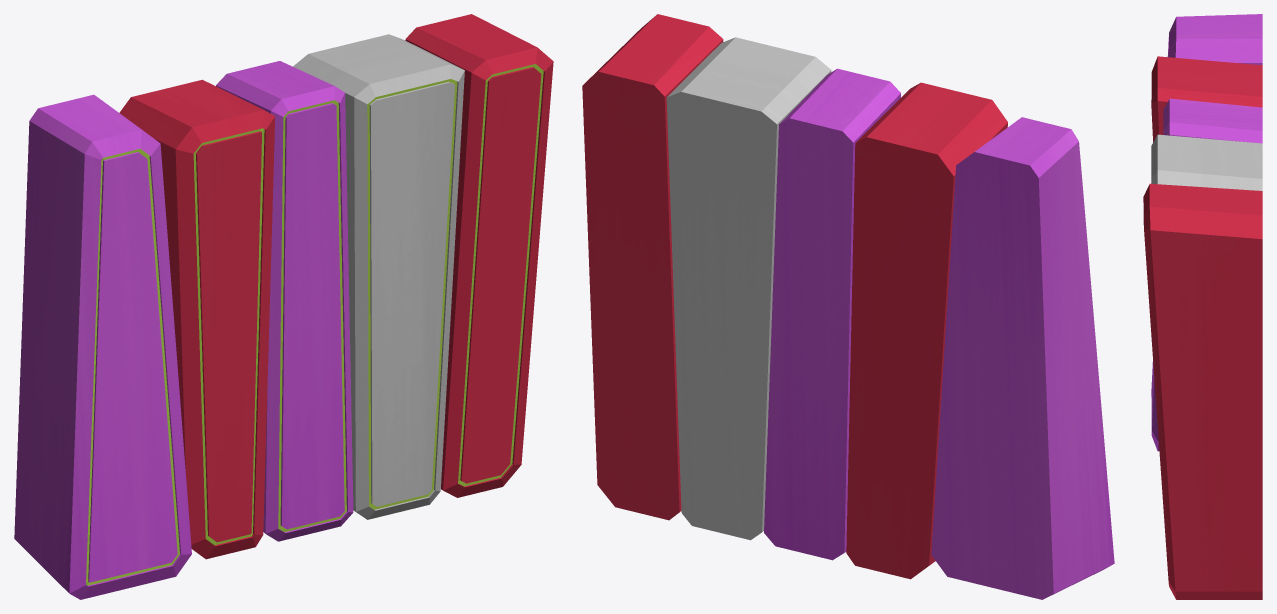
Rendered from Lockers.fbx.
3 views of the same model, side by side, from view 1: azimuth 30°, elevation 25°; view 2: azimuth 150°, elevation 25°; view 3: azimuth 270°, elevation 25° (orthographic). The views are drawn at different scales.
Parts seen in each view (by area): view 1: Locker.002, Locker.005, Locker.003, Locker.001, Locker.004; view 2: Locker.002, Locker.005, Locker.003, Locker.001, Locker.004; view 3: Locker.001, Locker.005, Locker.003, Locker.002, Locker.004.
Part boxes in pixels (x1,y1,x2,y2): Locker.002: (14, 94, 191, 599); Locker.005: (293, 34, 464, 519); Locker.003: (119, 79, 275, 559); Locker.001: (405, 14, 553, 497); Locker.004: (216, 61, 353, 541); Locker.002: (931, 117, 1114, 599); Locker.005: (666, 37, 831, 540); Locker.003: (846, 82, 1007, 579); Locker.001: (582, 14, 723, 520); Locker.004: (764, 68, 900, 560); Locker.001: (1143, 183, 1262, 599); Locker.005: (1151, 134, 1262, 190); Locker.003: (1151, 56, 1262, 142); Locker.002: (1151, 14, 1262, 451); Locker.004: (1163, 98, 1262, 143).
Size of the model in its own units: 226 by 200 by 53.88.
